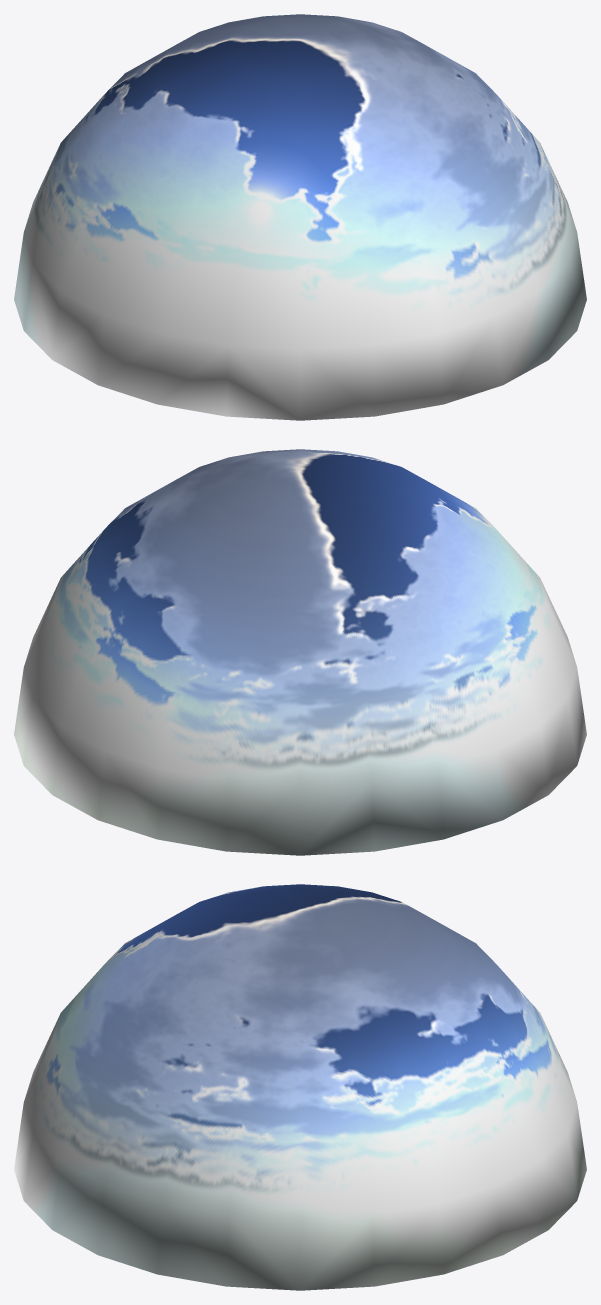
Rendered from sky.obj.
3 renders of one model, top to bottom at view 1: azimuth 30°, elevation 25°; view 2: azimuth 150°, elevation 25°; view 3: azimuth 270°, elevation 25°, orthographic.
Parts seen in each view (by area): view 1: default; view 2: default; view 3: default.
Part boxes in pixels (x1,y1,x2,y2): default: [14, 14, 586, 420]; default: [14, 449, 586, 855]; default: [14, 884, 586, 1290].
Size of the model in its own units: 393 by 197 by 393.
Materials: 2 (2 with a texture image).
